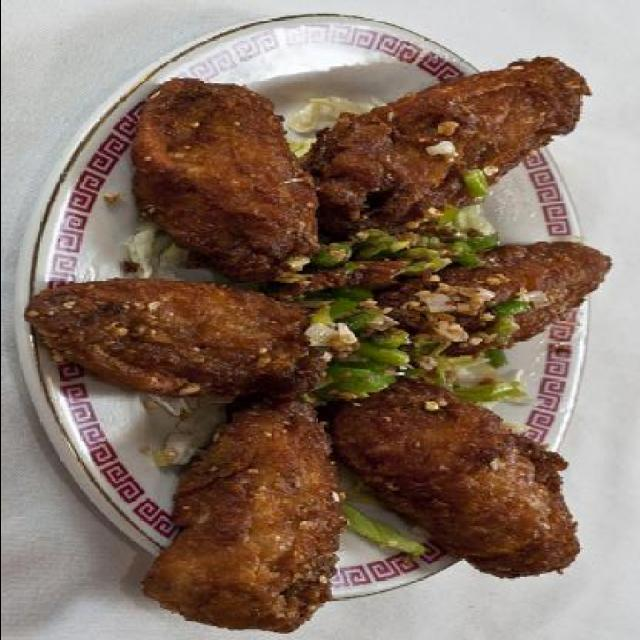Deep fried chicken wing: (62, 57, 610, 628)
